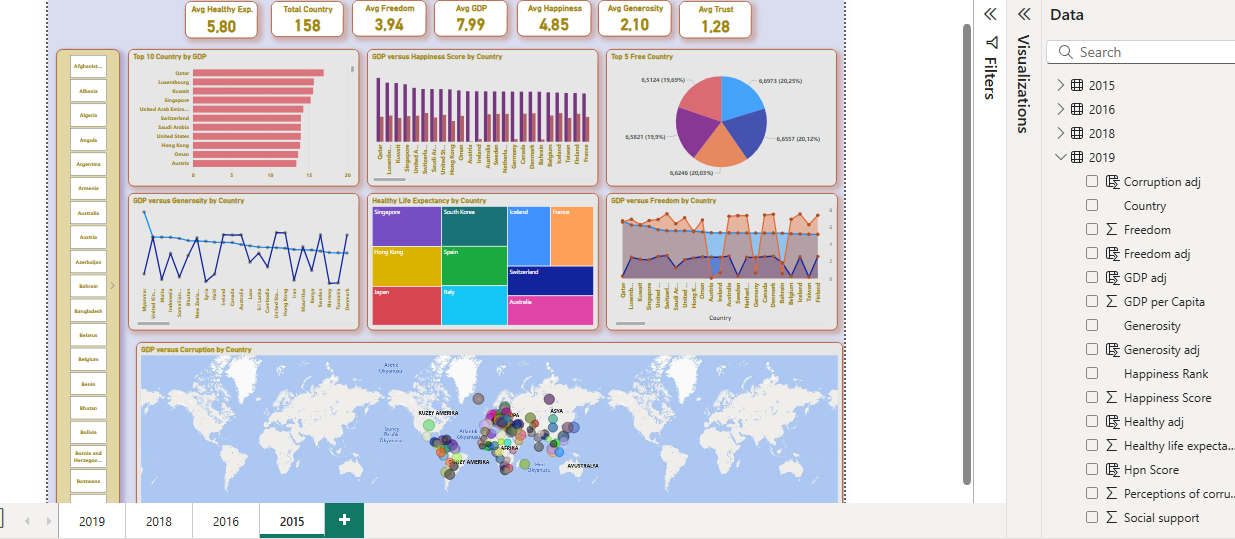

The page's visual inventory and layout, read from the dashboard file:
{"tool":"powerbi","page":{"name":"2015","canvas":[1850,1280],"ordinal":3},"visuals":[{"type":"textbox","title":"WORLD HAPPINESS 2015 ANALYSIS","box":[725,0,521.2,50],"z":0},{"type":"card","title":"Avg GDP","fields":{"Values":["Avg(2015.GDP adj)"]},"box":[897.6,65.9,170.7,85.4],"z":1000},{"type":"card","title":"Total Country ","fields":{"Values":["Count(2015.Country)"]},"box":[517.8,66.7,168.9,84.4],"z":2000},{"type":"card","title":"Avg Freedom","fields":{"Values":["Avg(2015.Freedom adj)"]},"box":[707.3,65.9,173.2,85.4],"z":3000},{"type":"card","title":"Avg Happiness","fields":{"Values":["Avg(2015.Happiness adj)"]},"box":[1090.2,65.9,173.2,85.4],"z":4000},{"type":"card","title":"Avg Generosity","fields":{"Values":["Avg(2015.Generosity adj)"]},"box":[1278,65.9,170.7,85.4],"z":5000},{"type":"slicer","fields":{"Values":["2015.Country"]},"box":[19.6,178.4,149,1102],"z":6000},{"type":"barChart","title":"Top 10 Country by GDP ","fields":{"Category":["2015.Country"],"Y":["Avg(2015.GDP adj)"]},"box":[186.9,178.7,537.7,319.7],"z":7000},{"type":"lineClusteredColumnComboChart","title":"GDP versus Happiness Score by Country","fields":{"Category":["2015.Country"],"Y":["Avg(2015.GDP adj)","Avg(2015.Happiness adj)"]},"box":[742.6,178.7,537.7,319.7],"z":8000},{"type":"lineChart","title":"GDP versus Generosity by Country","fields":{"Category":["2015.Country"],"Y":["Avg(2015.Generosity adj)"],"Y2":["Avg(2015.GDP adj)"]},"box":[186.9,514.8,537.7,319.7],"z":9000},{"type":"treemap","title":"Healthy Life Expectancy by Country","fields":{"Group":["2015.Country"],"Values":["Sum(2015.Health adj)"]},"box":[741.5,514.6,539,319.5],"z":10000},{"type":"pieChart","title":"Top 5 Free Country","fields":{"Category":["2015.Country"],"Y":["Sum(2015.Freedom adj)"]},"box":[1297.6,178,536.6,319.5],"z":11000},{"type":"areaChart","title":"GDP versus Freedom by Country","fields":{"Category":["2015.Country"],"Y":["Sum(2015.GDP adj)","Sum(2015.Freedom adj)"],"Y2":["Sum(2015.Happiness adj)"]},"box":[1297.6,514.6,539,319.5],"z":12000},{"type":"map","title":"GDP versus Corruption by Country","fields":{"Category":["2015.Country","2015.Region"],"Size":["Avg(2015.GDP adj)"],"Series":["2015.Trust adj"]},"box":[205.8,859.6,1644.2,421.2],"z":13000},{"type":"card","title":"Avg Trust","fields":{"Values":["Avg(2015.Trust adj)"]},"box":[1466.7,66.7,168.9,86.7],"z":14000},{"type":"card","title":"Avg Healthy Exp.","fields":{"Values":["Avg(2015.Health adj)"]},"box":[317.8,66.7,168.9,86.7],"z":15000}]}

Visuals, with their boxes on the page's 1850x1280 design canvas (x1, y1, x2, y2). These are canvas units, not pixel positions in the 1235x539 screenshot, which may show the page scaled, cropped or inside an application window:
"WORLD HAPPINESS 2015 ANALYSIS" textbox: region(725, 0, 1246, 50)
"Avg GDP" card: region(898, 66, 1068, 151)
"Total Country " card: region(518, 67, 687, 151)
"Avg Freedom" card: region(707, 66, 880, 151)
"Avg Happiness" card: region(1090, 66, 1263, 151)
"Avg Generosity" card: region(1278, 66, 1449, 151)
slicer - 2015.Country: region(20, 178, 169, 1280)
"Top 10 Country by GDP " barChart: region(187, 179, 725, 498)
"GDP versus Happiness Score by Country" lineClusteredColumnComboChart: region(743, 179, 1280, 498)
"GDP versus Generosity by Country" lineChart: region(187, 515, 725, 834)
"Healthy Life Expectancy by Country" treemap: region(742, 515, 1280, 834)
"Top 5 Free Country" pieChart: region(1298, 178, 1834, 498)
"GDP versus Freedom by Country" areaChart: region(1298, 515, 1837, 834)
"GDP versus Corruption by Country" map: region(206, 860, 1850, 1281)
"Avg Trust" card: region(1467, 67, 1636, 153)
"Avg Healthy Exp." card: region(318, 67, 487, 153)
